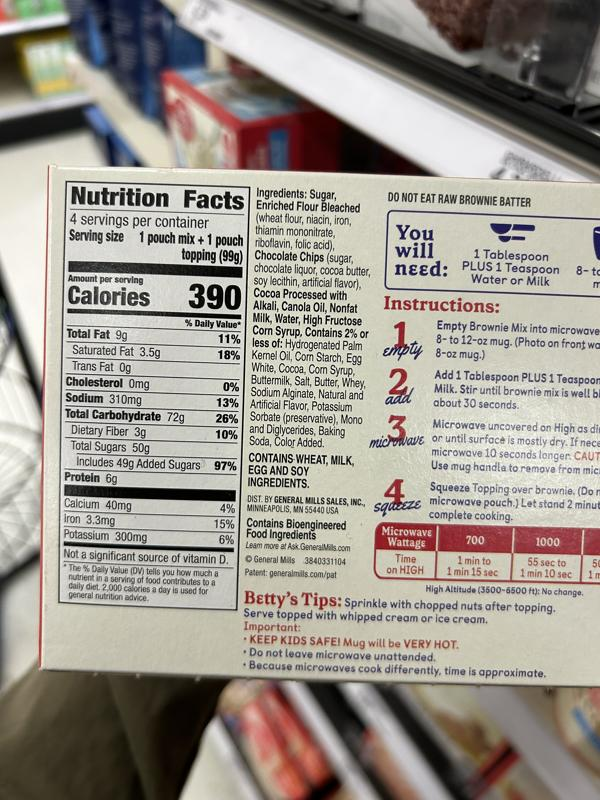ingredients: (249, 187, 371, 448)
